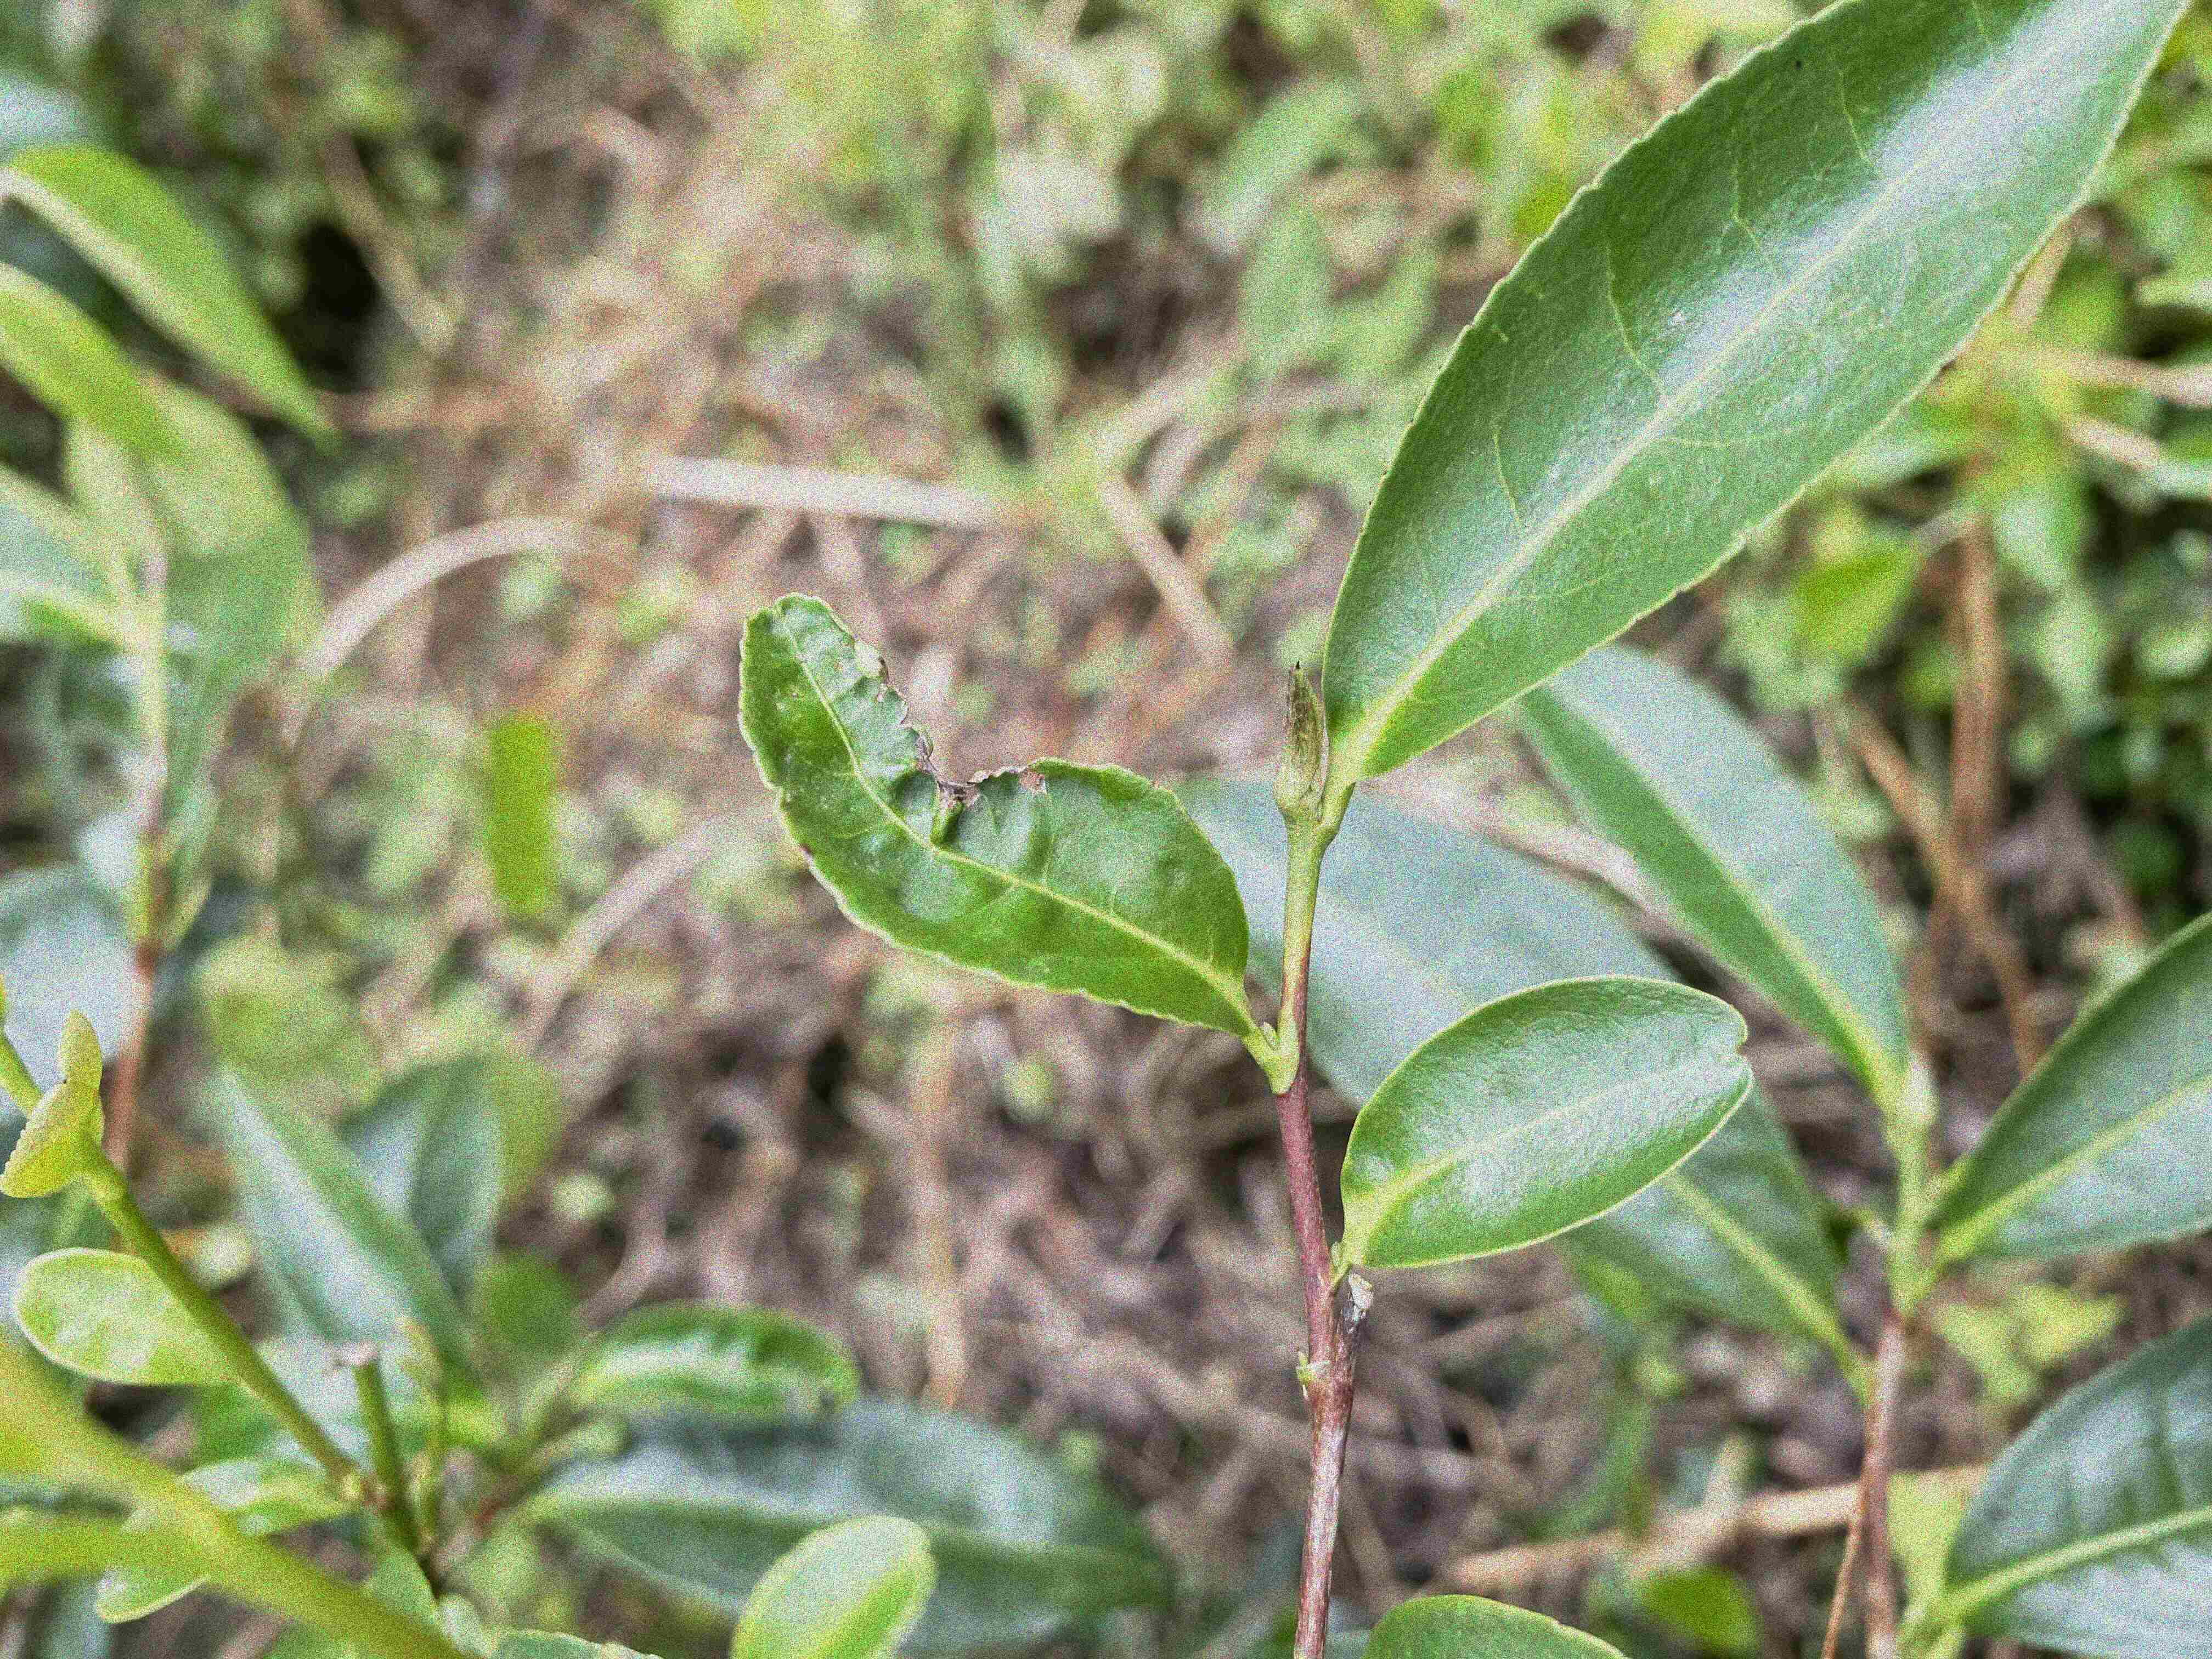chihuo_high: (733, 591, 1251, 1042)
healthy: (1318, 2, 2189, 779), (1338, 978, 1750, 1270)
